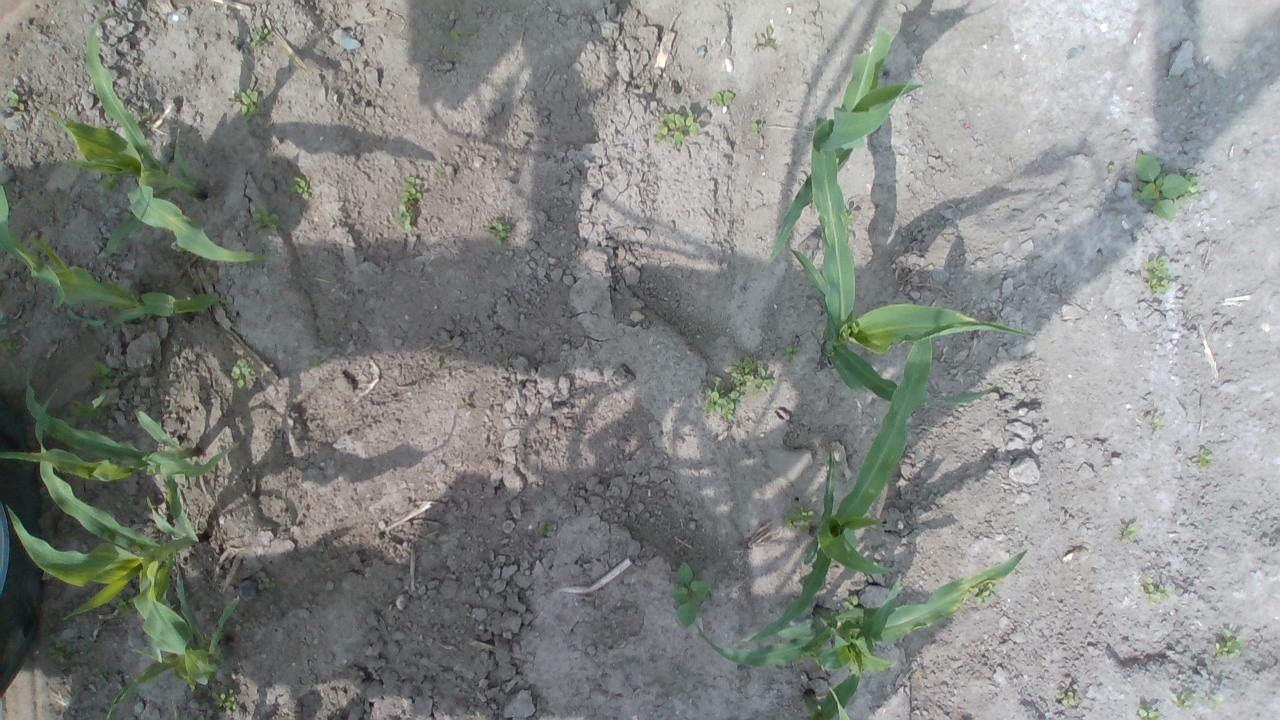Maize: (792, 116, 1033, 408), (6, 386, 217, 688), (39, 10, 279, 266), (741, 338, 932, 642), (0, 362, 239, 548), (692, 548, 1028, 680), (764, 27, 933, 258), (0, 182, 237, 330), (104, 566, 242, 720), (803, 574, 901, 720)
Weeds: (1132, 153, 1200, 222), (669, 560, 710, 628), (652, 109, 702, 151), (393, 174, 423, 232), (700, 380, 740, 423), (62, 393, 114, 426), (731, 357, 774, 395), (100, 586, 140, 620), (249, 203, 285, 237), (1142, 255, 1172, 295), (1214, 628, 1248, 661), (782, 503, 818, 534), (45, 633, 74, 671), (228, 88, 260, 122), (1138, 576, 1174, 606), (84, 360, 113, 397), (230, 358, 259, 391), (211, 684, 238, 710), (288, 174, 313, 200), (488, 219, 511, 247), (1168, 689, 1198, 709), (99, 172, 122, 198), (0, 333, 22, 359), (968, 581, 992, 604), (778, 342, 802, 364), (758, 25, 778, 51), (1190, 448, 1214, 469), (250, 26, 272, 48), (262, 576, 283, 598), (6, 86, 25, 110), (710, 89, 734, 106), (132, 108, 152, 128), (1138, 703, 1160, 720), (1058, 690, 1078, 708), (1120, 524, 1138, 542), (138, 312, 158, 328), (842, 594, 858, 611), (1148, 417, 1166, 430), (844, 208, 856, 227), (448, 29, 466, 41), (312, 354, 326, 369), (750, 121, 764, 136), (538, 522, 554, 535), (455, 396, 471, 409), (445, 46, 457, 62), (1009, 564, 1019, 574), (436, 164, 446, 174), (431, 360, 441, 370), (500, 360, 512, 368), (172, 710, 181, 720), (1108, 164, 1117, 172), (197, 715, 204, 720)
